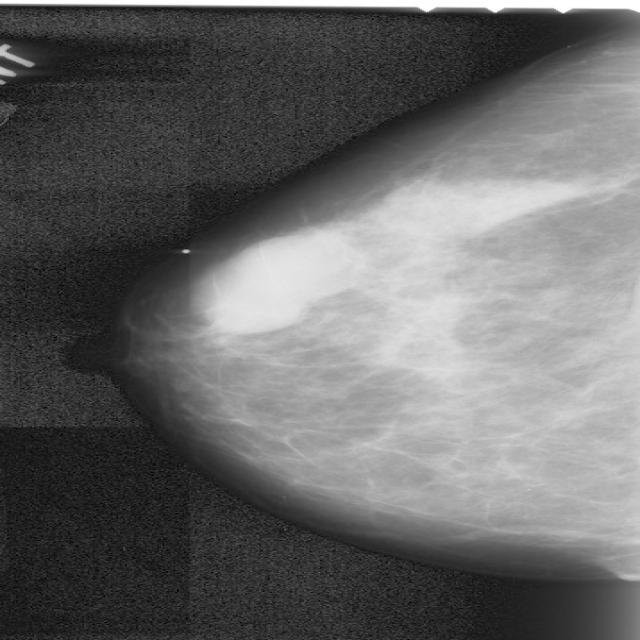tumour: (208, 233, 366, 333)
